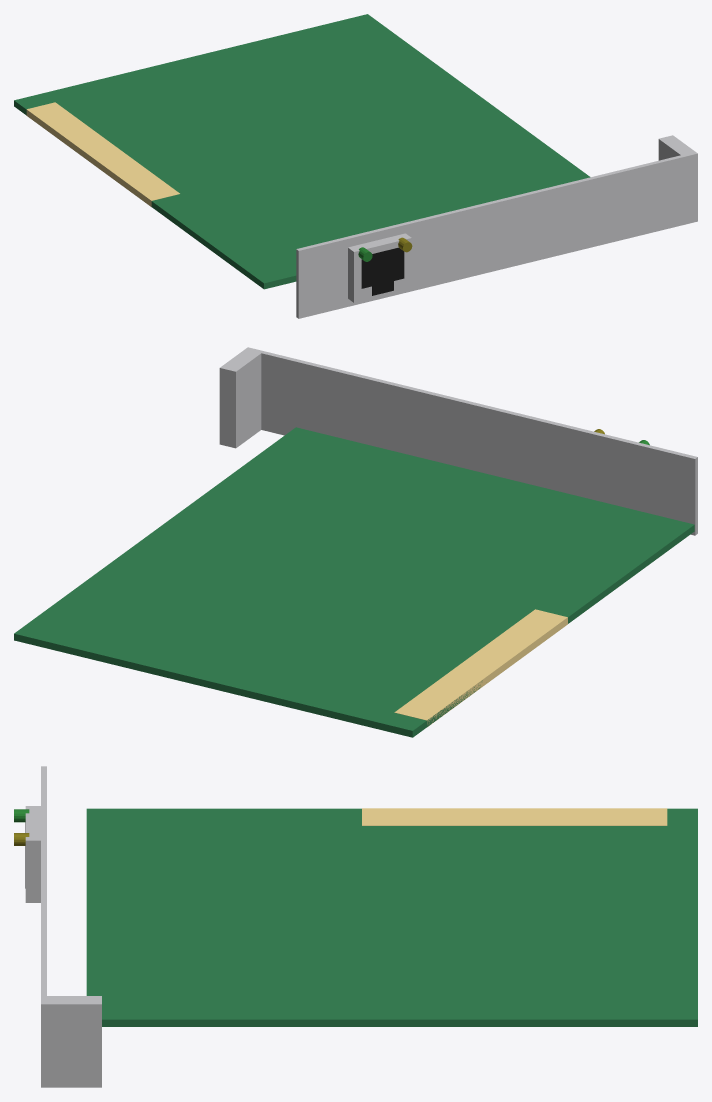
Rendered from card_e100.glb.
3 views of the same model, one above another, from view 1: azimuth 30°, elevation 25°; view 2: azimuth 150°, elevation 25°; view 3: azimuth 270°, elevation 25° (orthographic). The views are drawn at different scales.
Visible parts, largest first — view 1: card_e100_body; view 2: card_e100_body; view 3: card_e100_body.
Part boxes in pixels (x1,y1,x2,y2): card_e100_body: [14, 14, 697, 318]; card_e100_body: [14, 347, 697, 737]; card_e100_body: [25, 766, 697, 1087].
Bounding box in the file's own units: 0.115 × 0.0188 × 0.1343.
